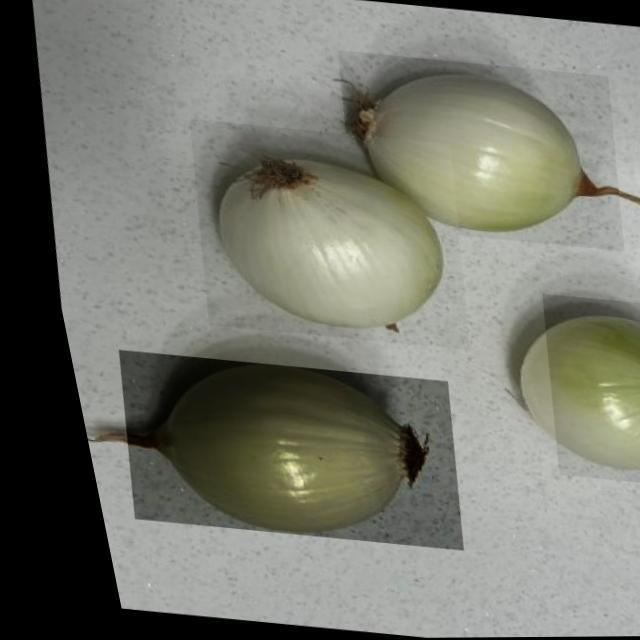Onion: (86, 348, 458, 552), (162, 117, 476, 352), (317, 49, 632, 254), (511, 294, 640, 491)
